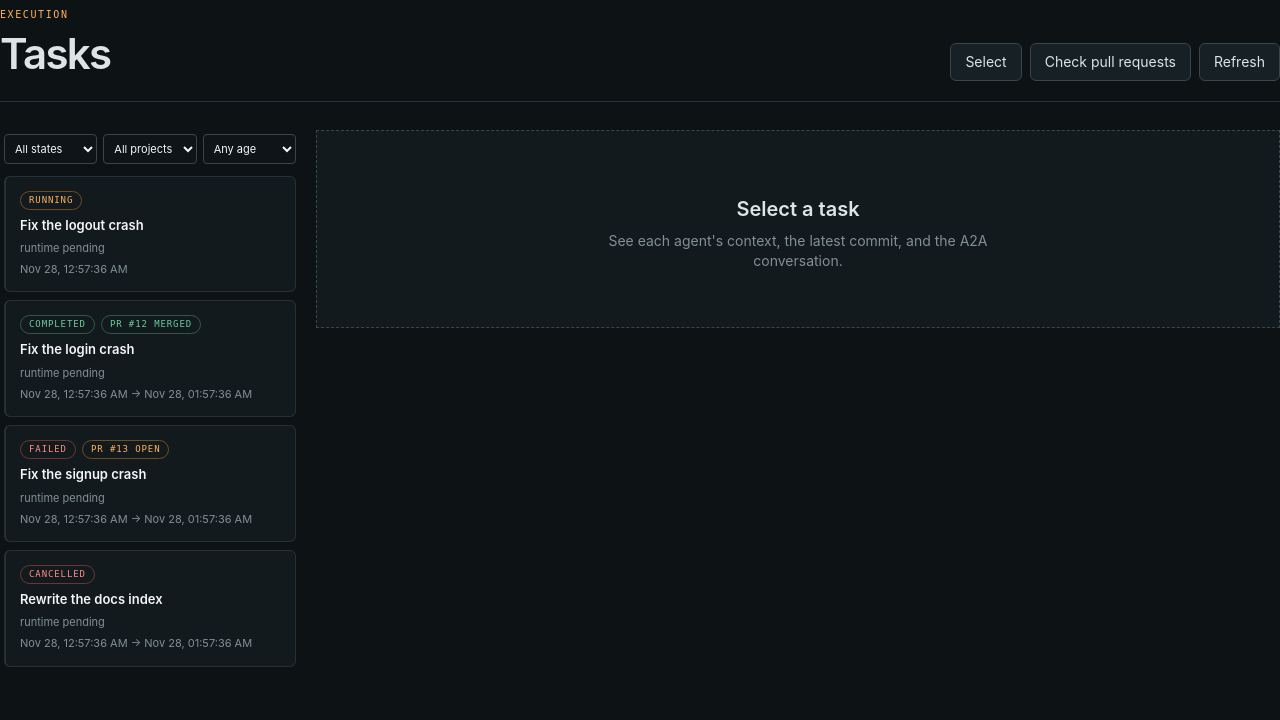
Test case: TasksView pull requests › filters to merged tasks, which Select all finished then takes
The width and height of the screenshot is (1280, 720).
Select "Pull request merged" in the dropdown named "Filter by state" at (51, 148), box [4,134,97,164]
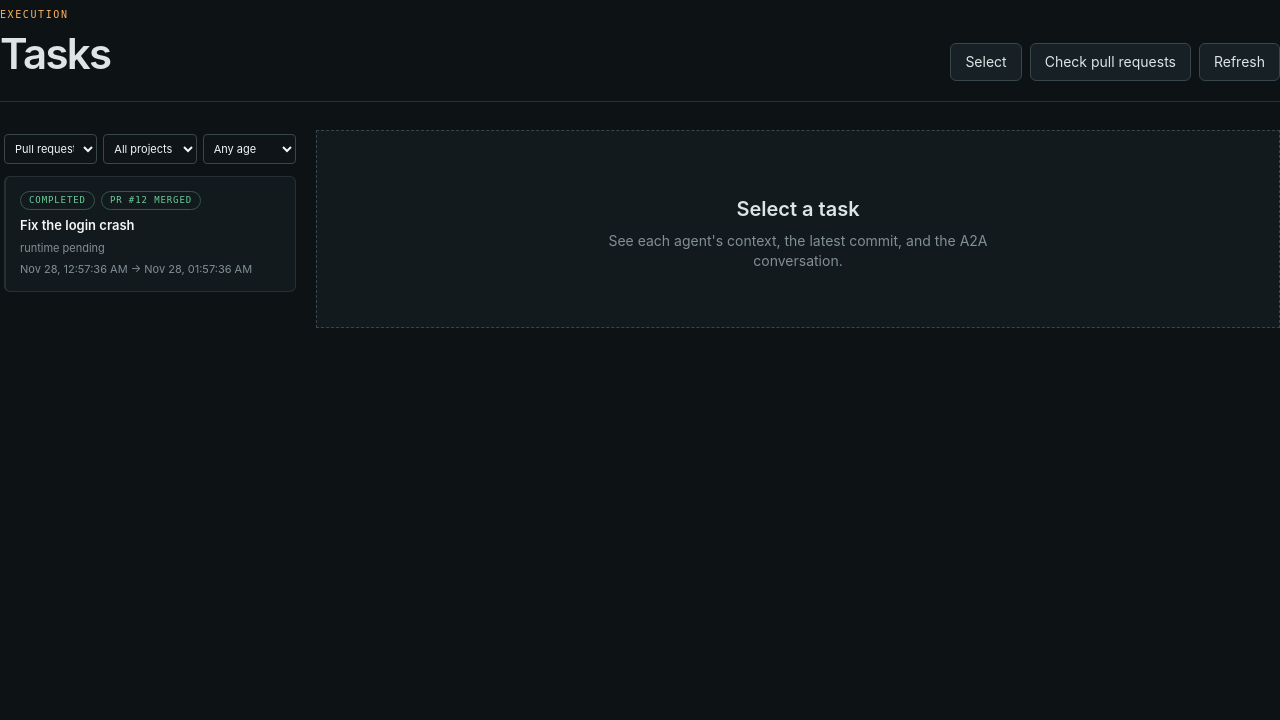
Click the button "Select" at (986, 62), box [950,42,1022,80]
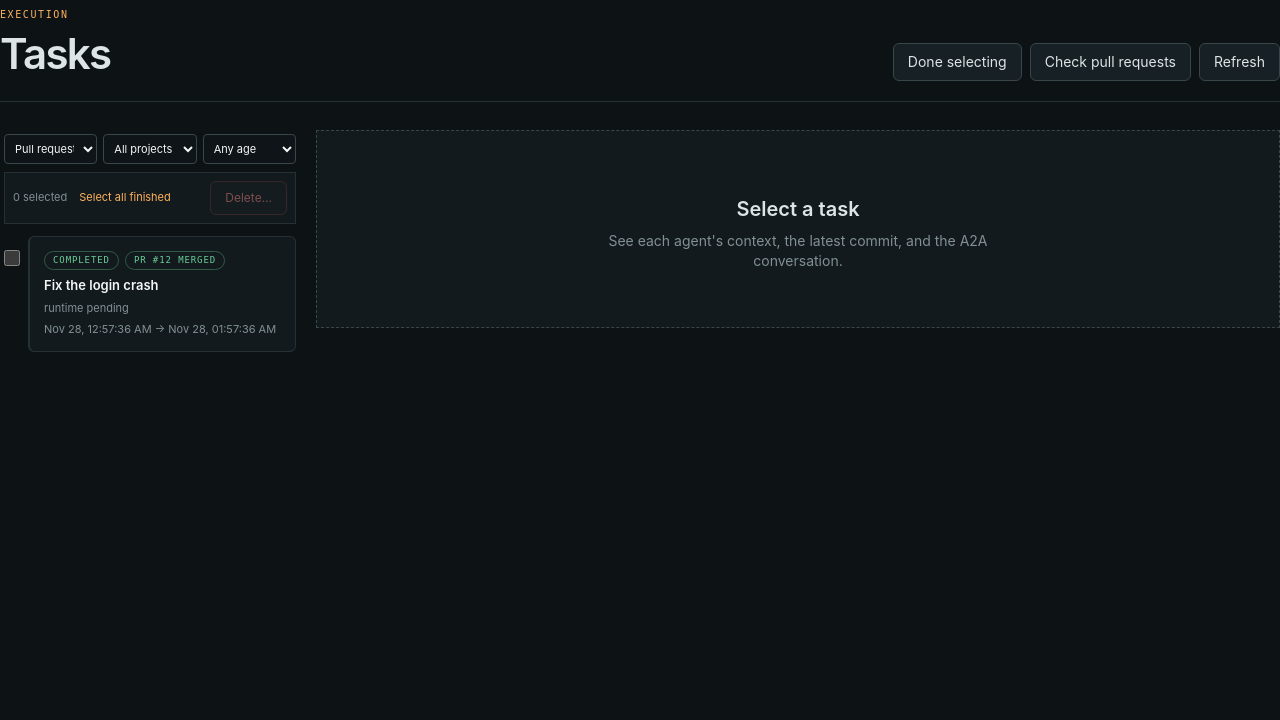
Click the button "Select all finished" at (125, 198), box [79,189,171,206]
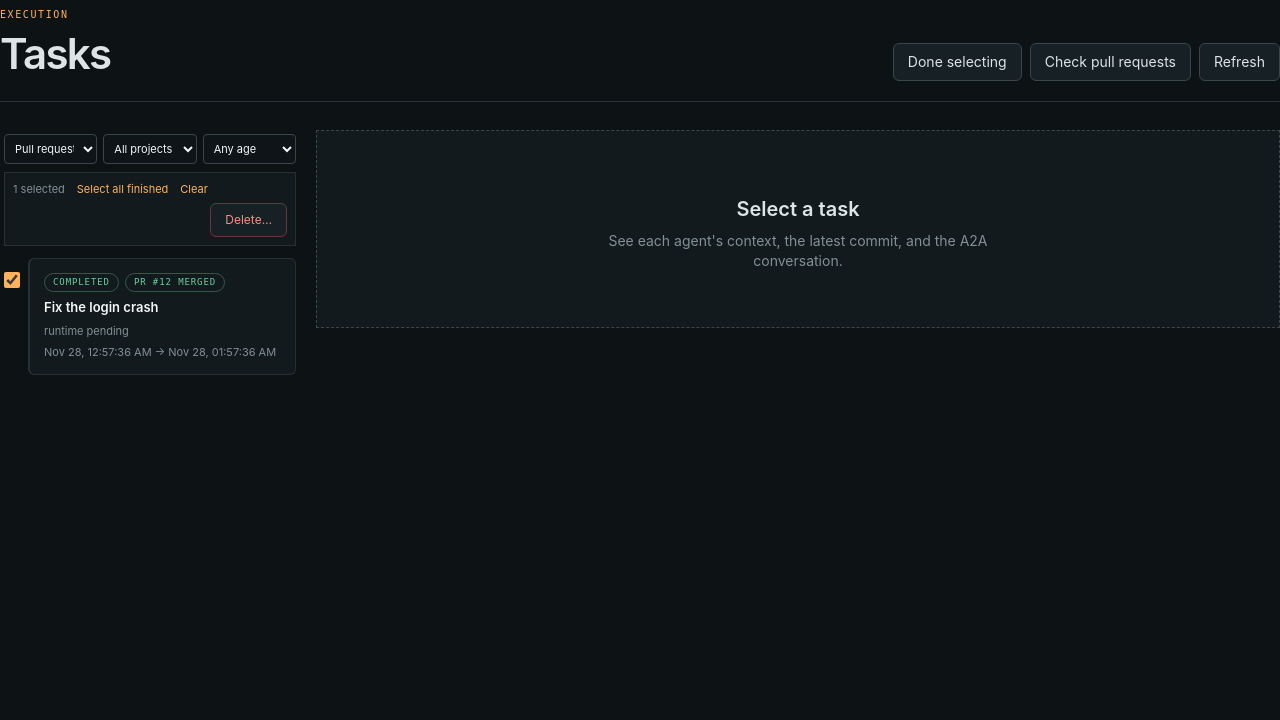
expect the text "1 selected" is shown: met, box [13,180,65,197]
Click the button "Delete…" at (249, 220), box [210,203,287,237]
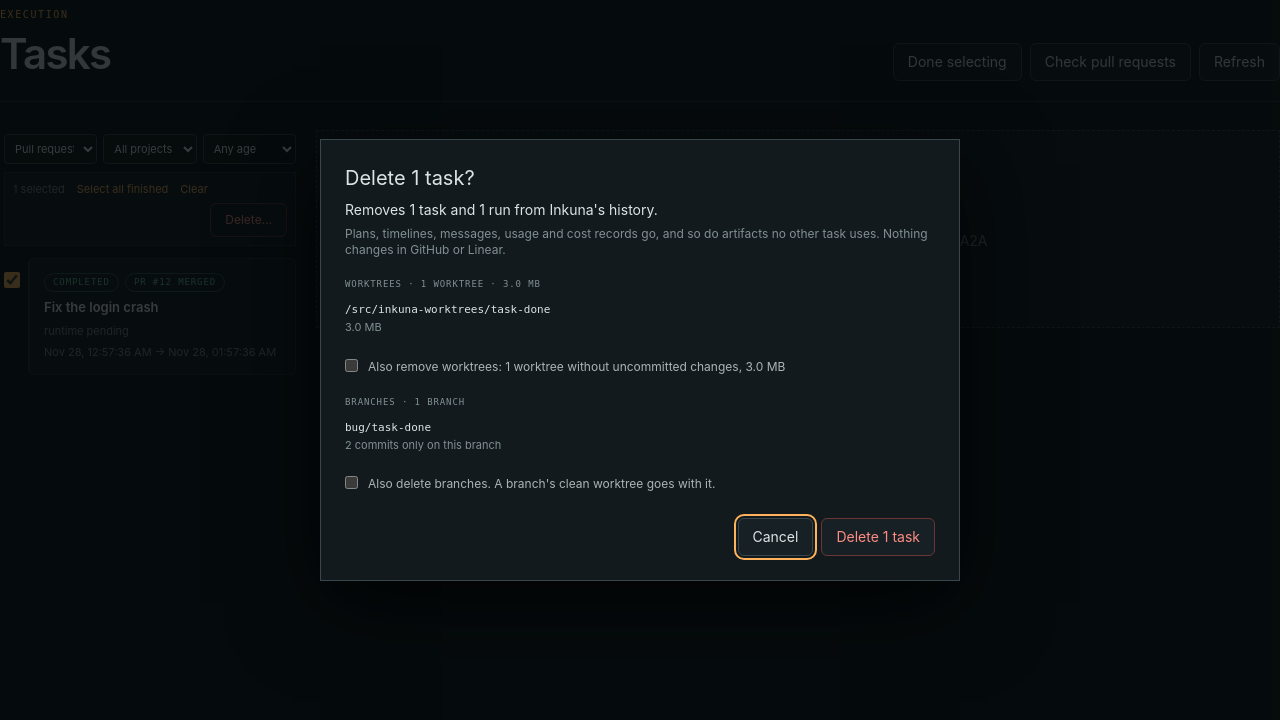
expect the dialog is shown: met, box [320,139,960,581]
